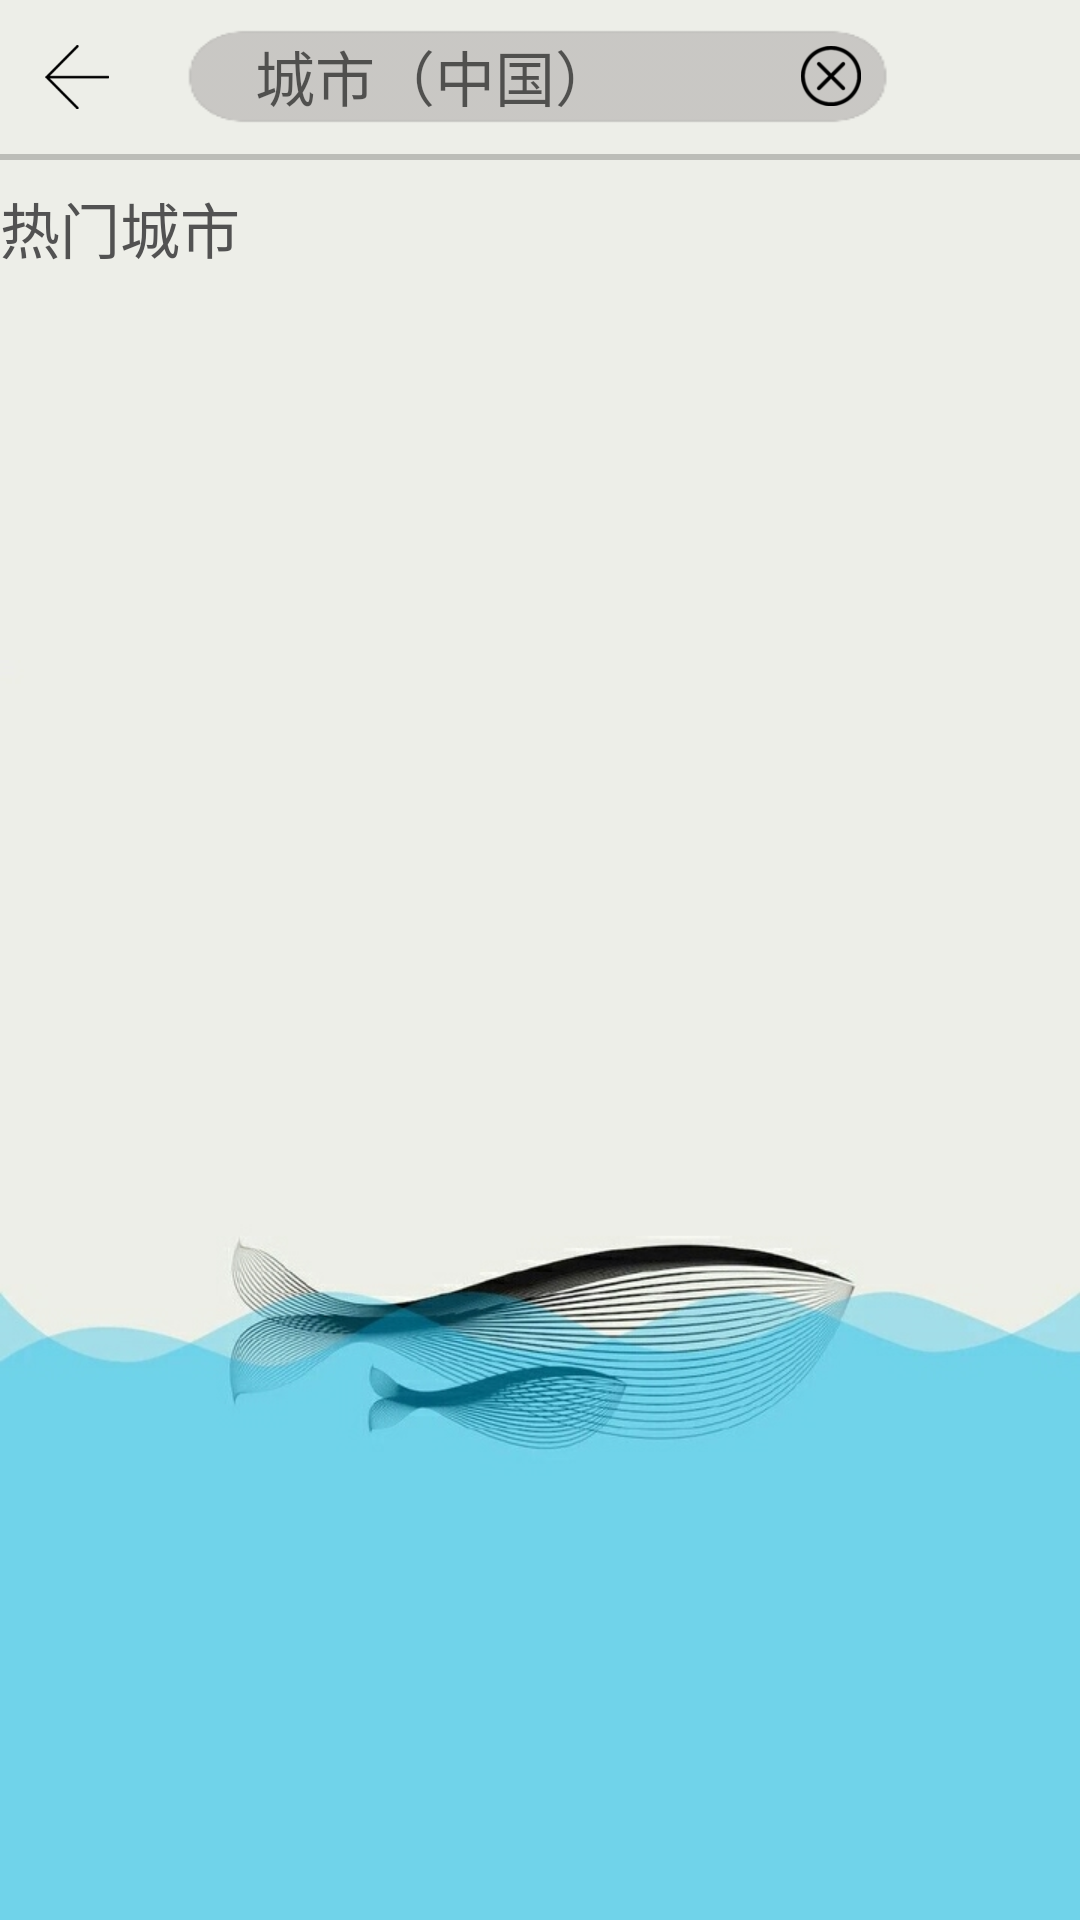

Locate icon controls on the screen. Image size 1080*1920, boxes as Rect(x1, y1, x2, y2).
back: Rect(45, 45, 109, 109)
clear: Rect(801, 46, 861, 106)
